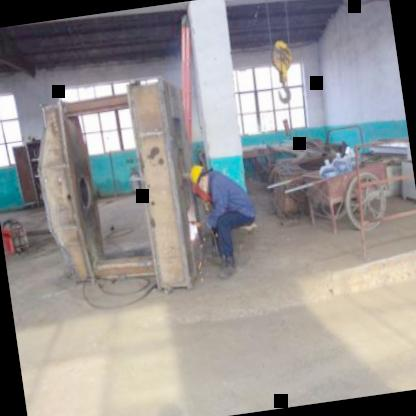helmet: (188, 160, 210, 198)
